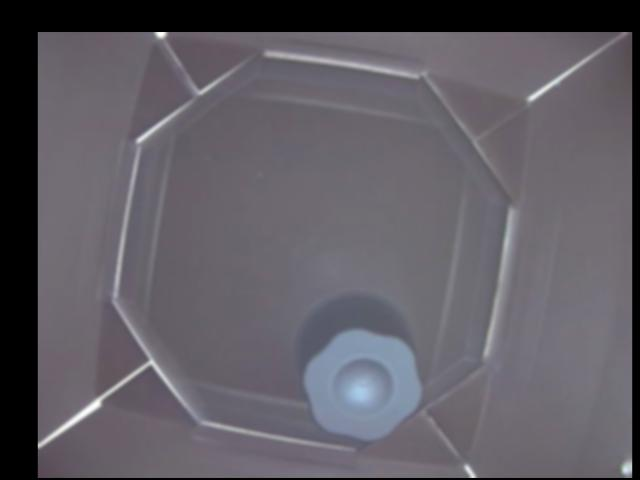Cup: (294, 291, 421, 444)
